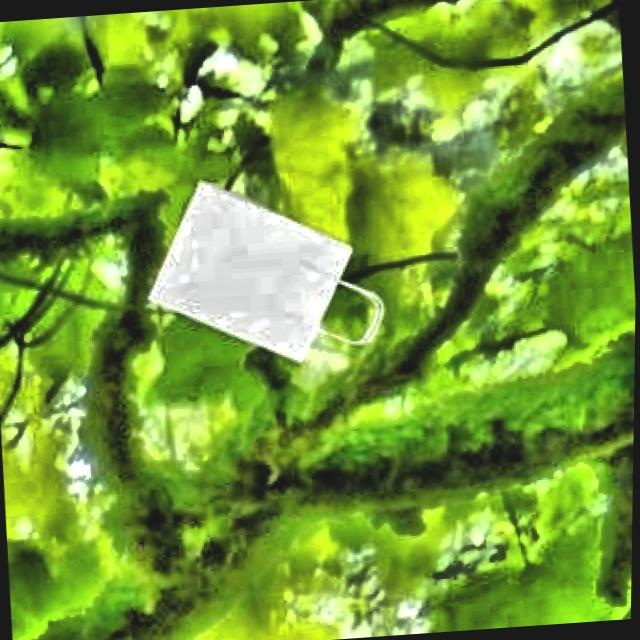Paper-bag: (131, 166, 406, 411)
